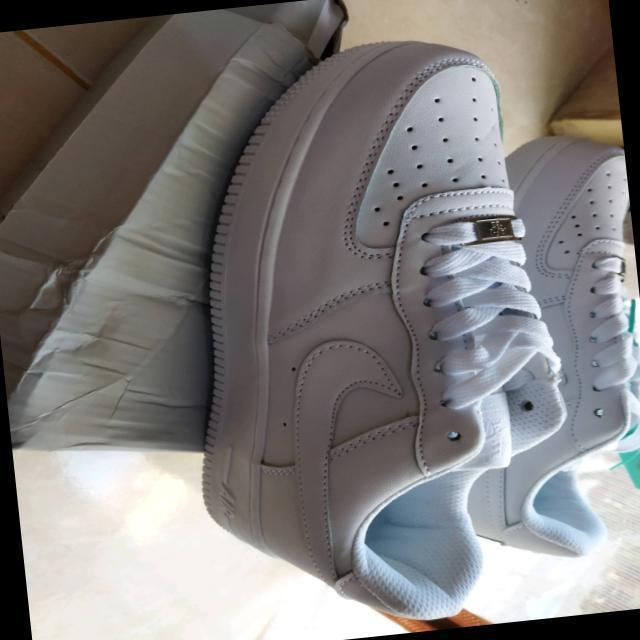nike fake air force: (153, 24, 589, 640), (417, 124, 640, 570)
